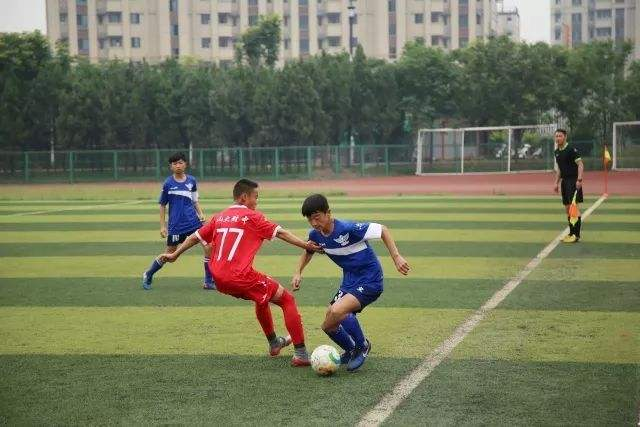football: (311, 344, 342, 377)
